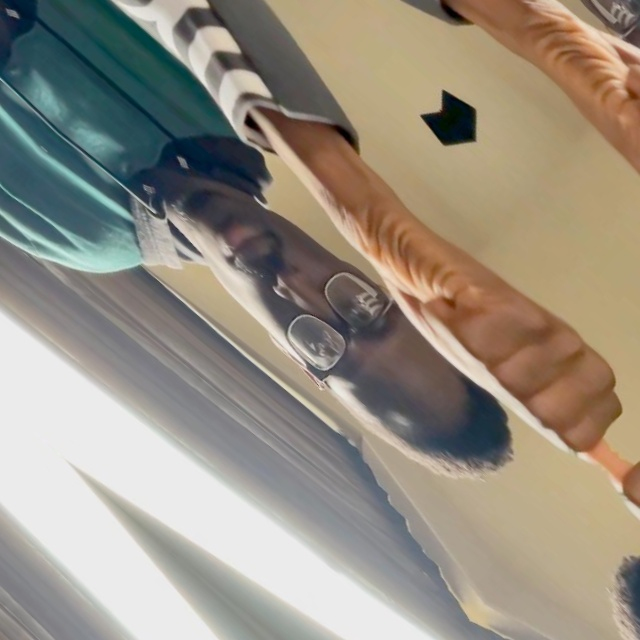Rock: (481, 0, 640, 290)
